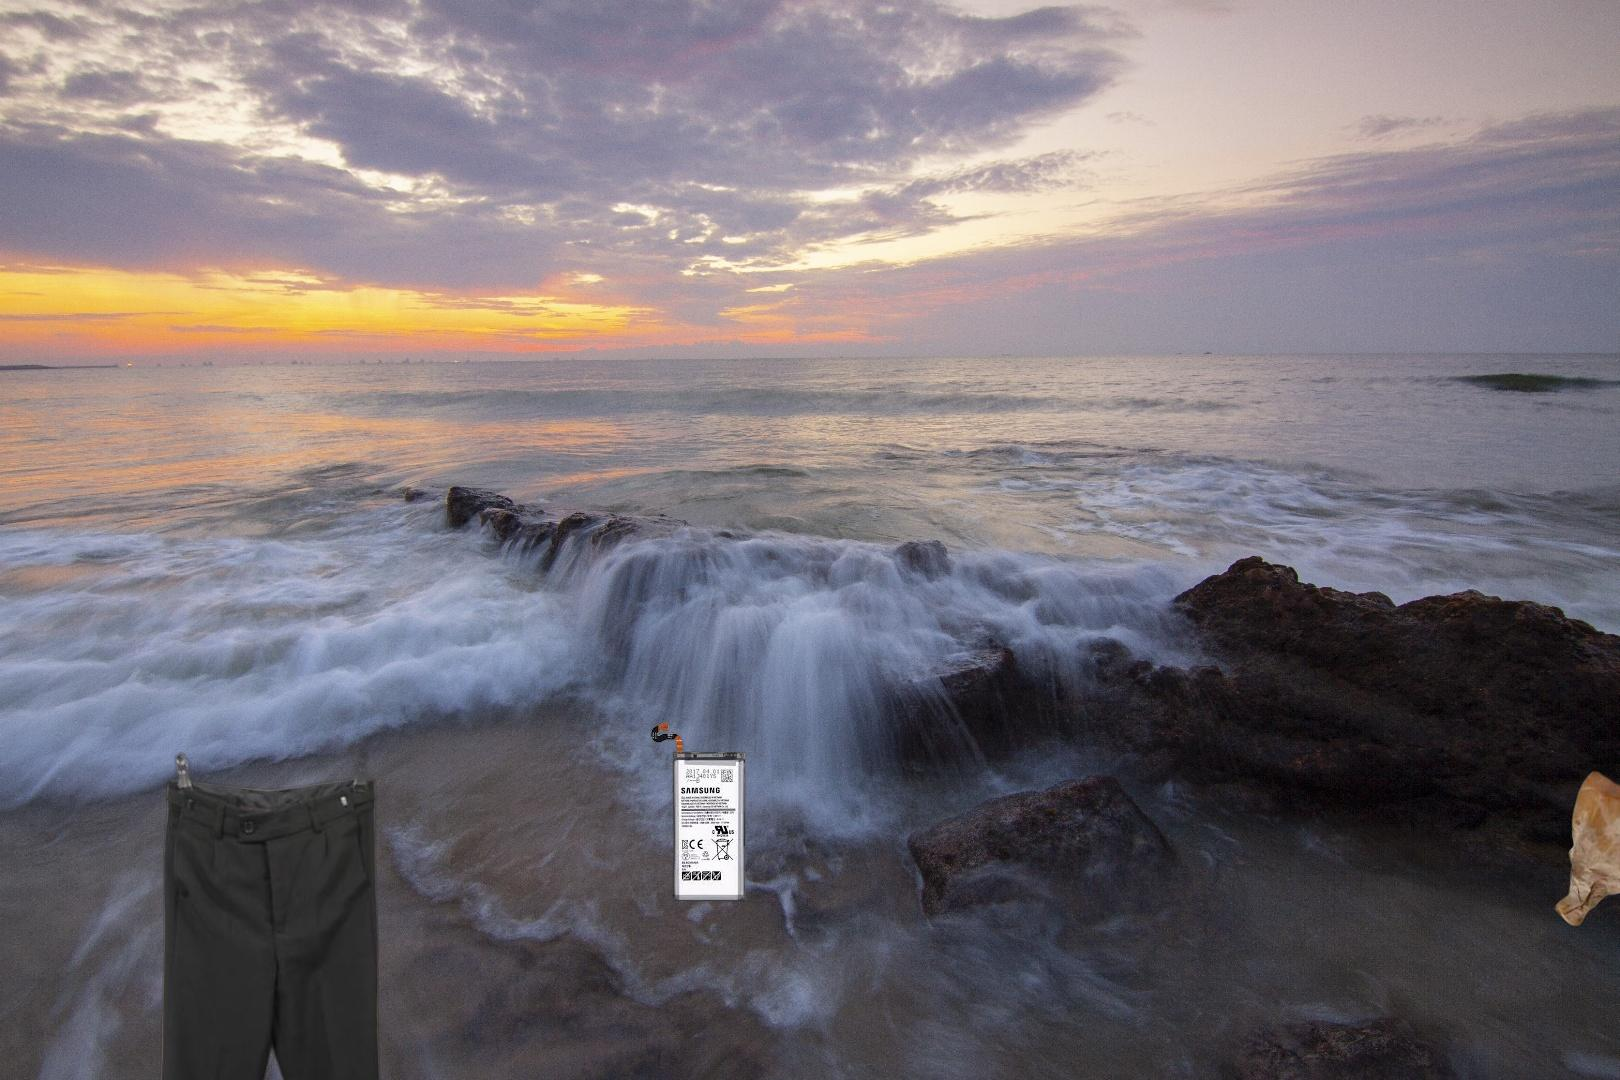battery: (648, 720, 749, 904)
clothes: (127, 749, 397, 1080)
paper-bag: (1518, 767, 1620, 931)
